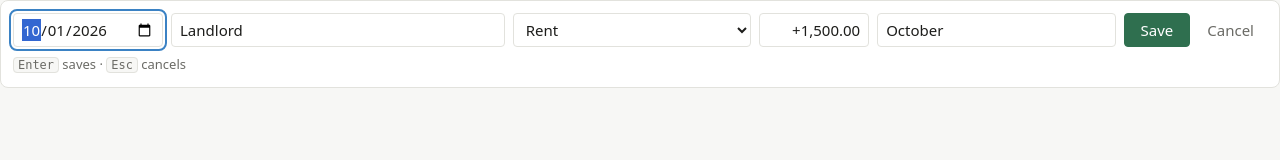
EntryRow in edit mode › uses the same validation as a new row
Clear the field named "Amount" at x=814, y=30, box top-left (759, 13), bottom-right (869, 47)
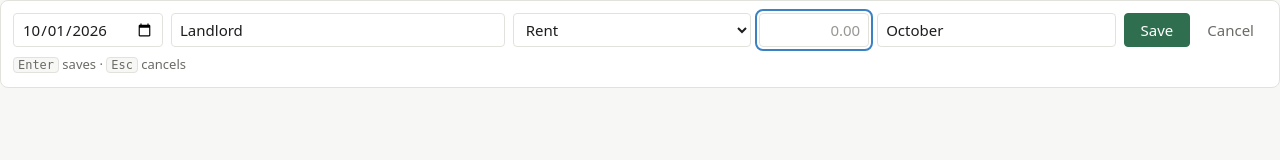
Press Enter
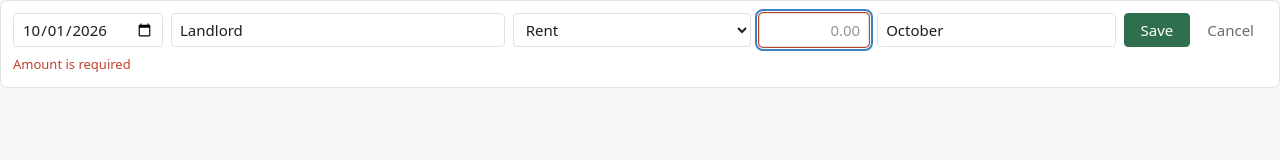
expect the message reads "Amount is required": met, box top-left (13, 55), bottom-right (131, 73)
